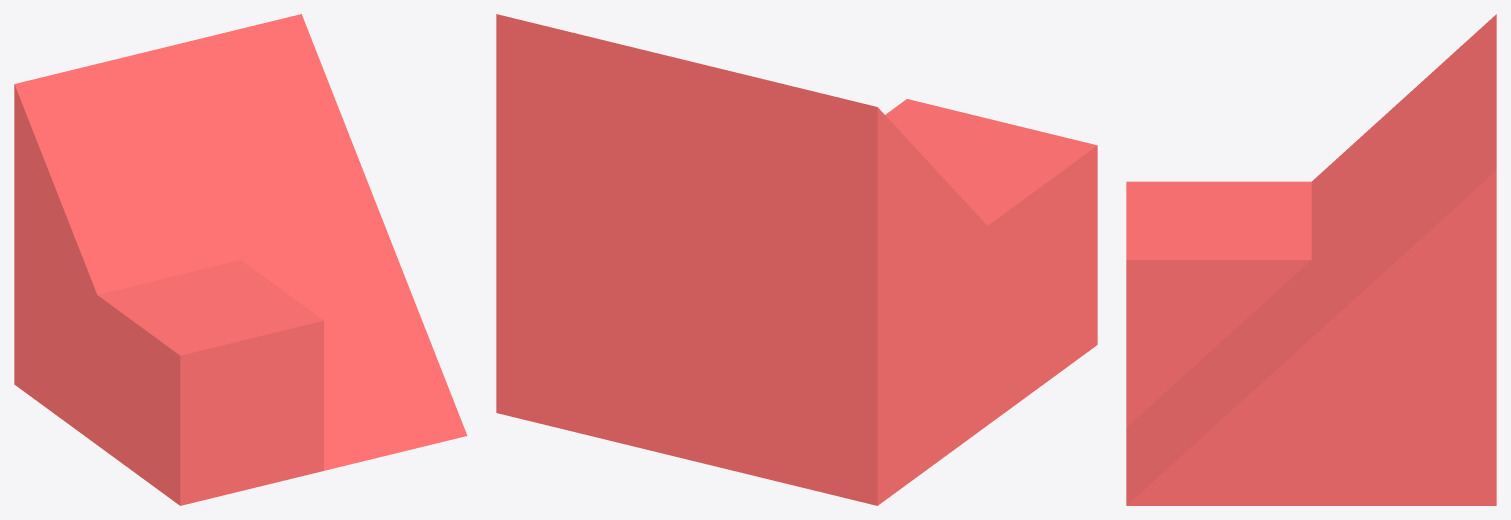
The model's file is vista_2.glb.
3 renders of one model, left to right at view 1: azimuth 30°, elevation 25°; view 2: azimuth 150°, elevation 25°; view 3: azimuth 270°, elevation 25°, orthographic. The views are drawn at different scales.
Parts seen in each view (by area): view 1: Object_2; view 2: Object_2; view 3: Object_2.
Part boxes in pixels (x1,y1,x2,y2): Object_2: [14, 14, 467, 505]; Object_2: [496, 14, 1097, 505]; Object_2: [1126, 14, 1496, 505].
Bounding box in the file's own units: 30 × 30 × 30.
